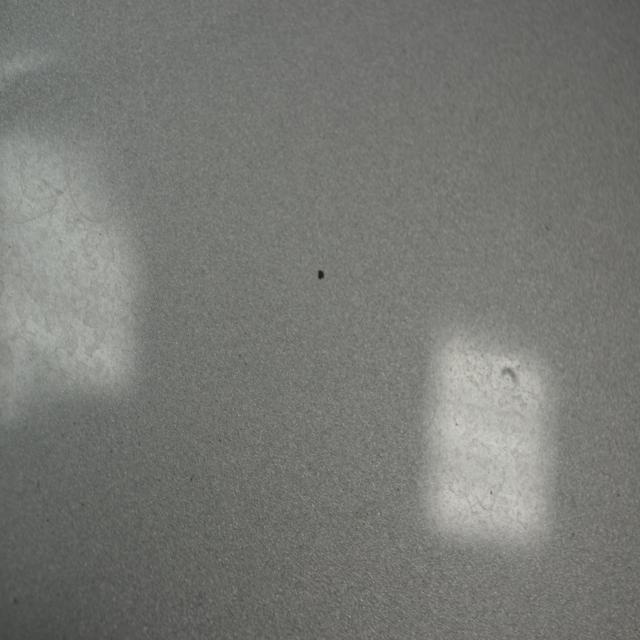dirt: (316, 262, 326, 284)
water marks: (4, 226, 133, 400), (455, 338, 543, 447), (443, 416, 506, 525), (12, 128, 82, 213), (61, 150, 119, 235), (414, 347, 456, 443)
